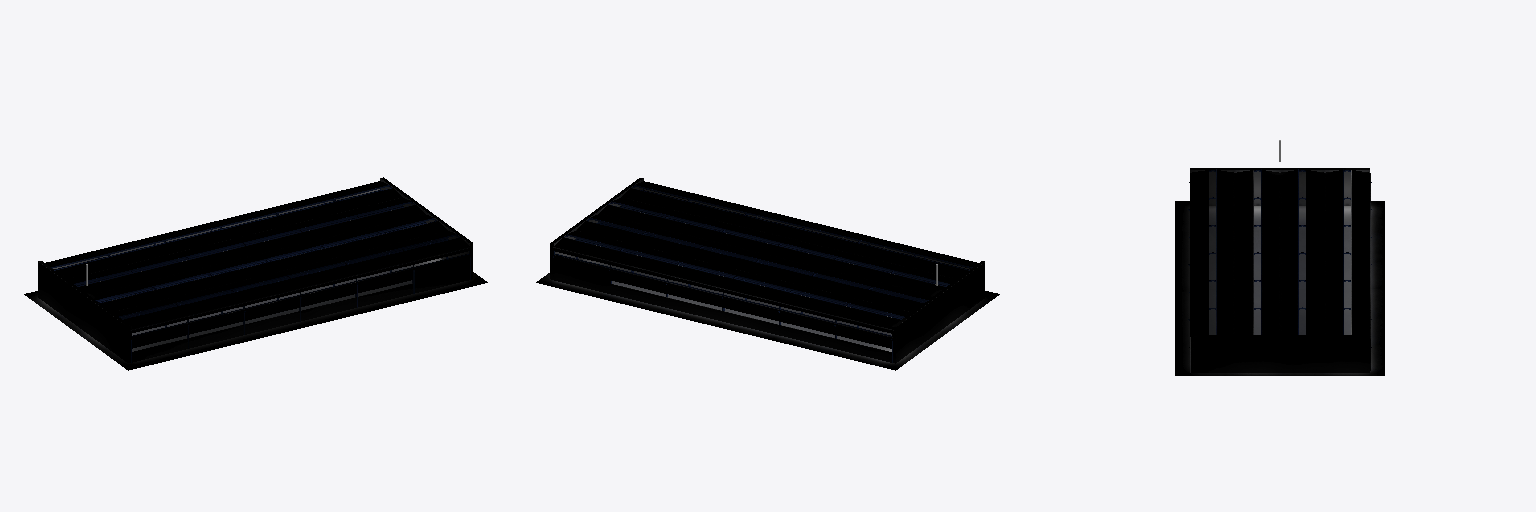
3 renders of one model, left to right at view 1: azimuth 30°, elevation 25°; view 2: azimuth 150°, elevation 25°; view 3: azimuth 270°, elevation 25°, orthographic.
Parts seen in each view (by area): view 1: Box014, Box024, Box020, Plane001; view 2: Box014, Box024, Box020, Plane001; view 3: Box014, Plane001, Box024, Box020.
Part boxes in pixels (bbox=[...]): Box014: bbox=[46, 181, 470, 330]; Box024: bbox=[38, 177, 472, 362]; Box020: bbox=[51, 185, 470, 362]; Plane001: bbox=[24, 258, 487, 370]; Box014: bbox=[553, 181, 977, 330]; Box024: bbox=[550, 178, 984, 363]; Box020: bbox=[553, 185, 972, 362]; Plane001: bbox=[536, 259, 999, 370]; Box014: bbox=[1190, 170, 1369, 334]; Plane001: bbox=[1175, 201, 1384, 375]; Box024: bbox=[1190, 168, 1370, 372]; Box020: bbox=[1188, 169, 1371, 348].
Size of the model in its own units: 319 by 55.68 by 160.
Materials: 5 (4 with a texture image).